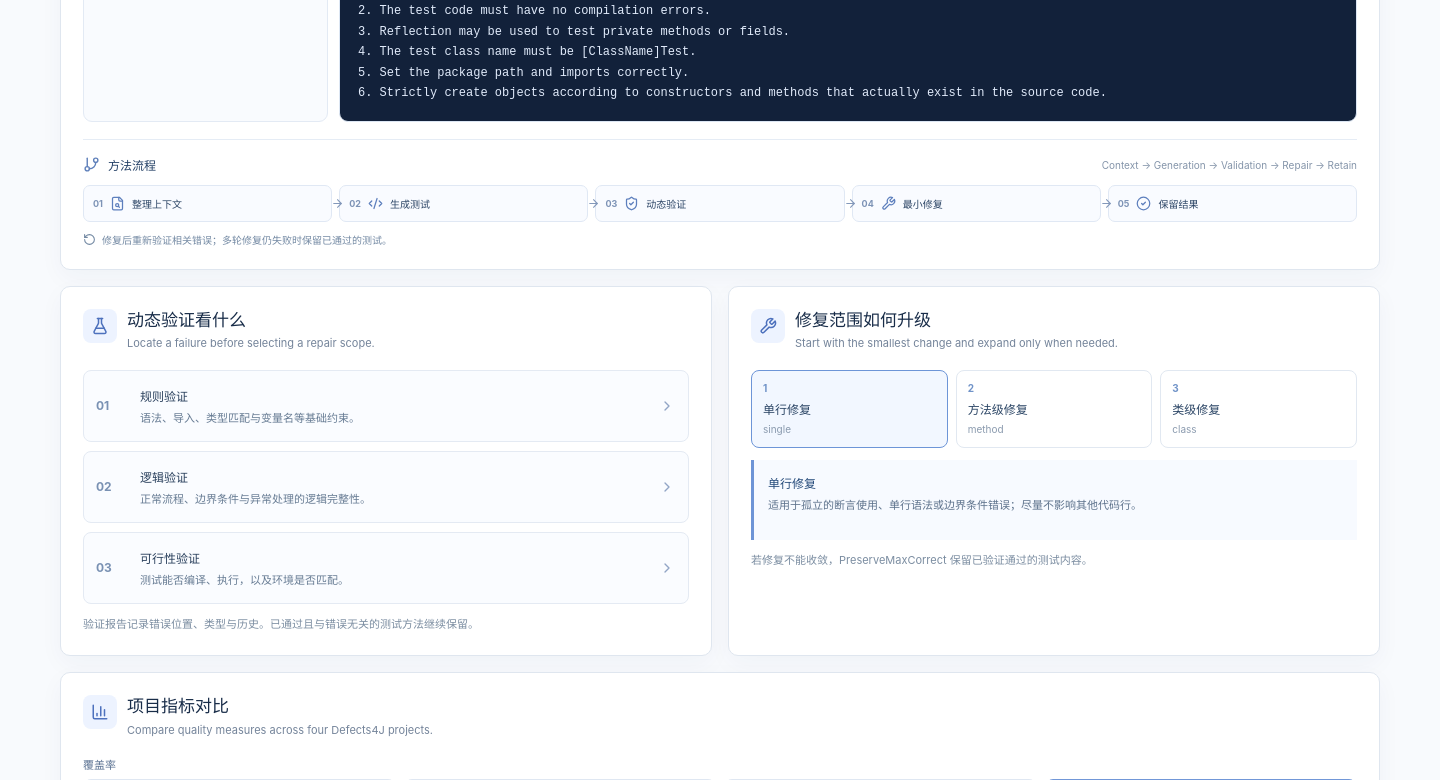
Test: ValiFixTest method showcase › opens concrete validation and repair explanations in dismissible dialogs
The image size is (1440, 780).
(page scrolled)
Click the button "01 规则验证 语法、导入、类型匹配与变量名等基础约束。".
click(164, 397)  # box [83,370,689,442]
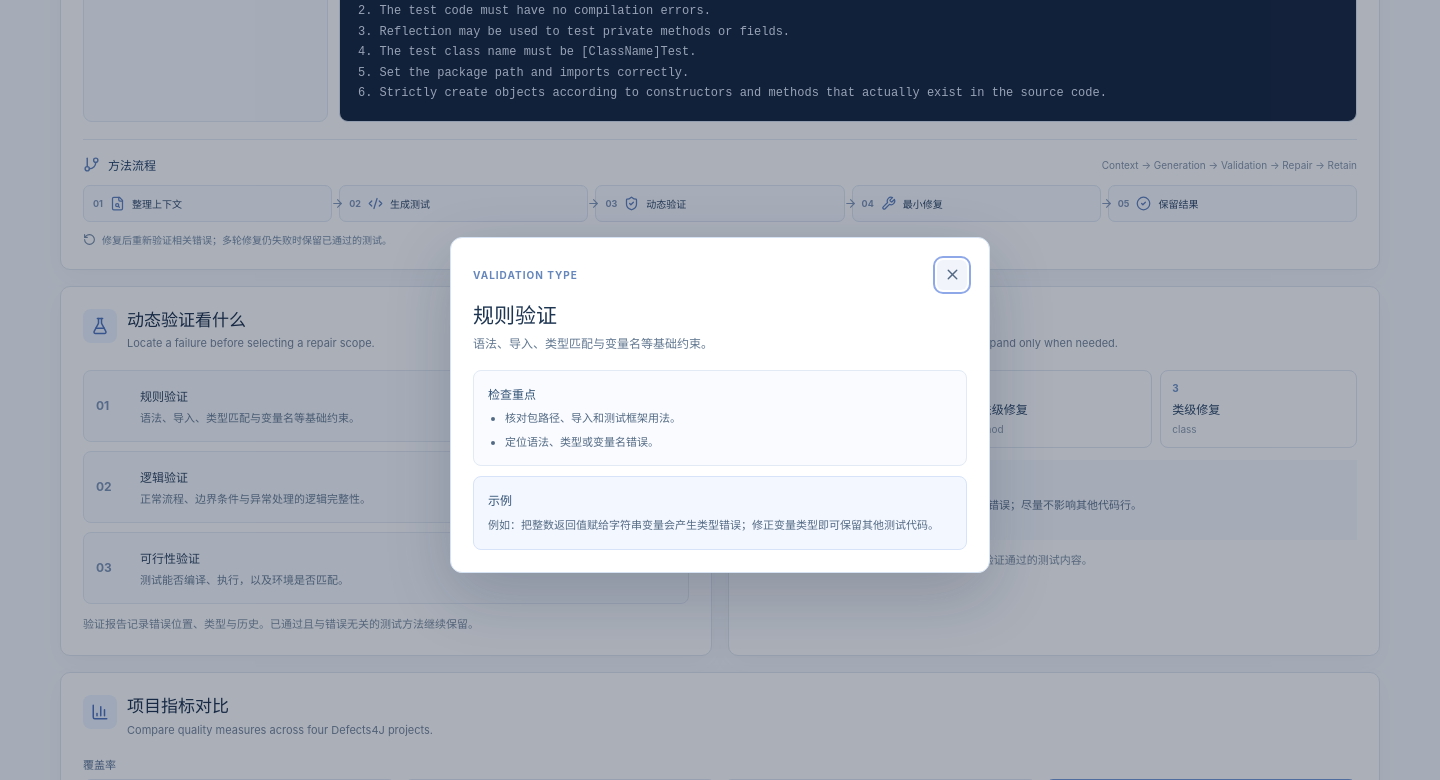
Check: the text "例如：把整数返回值赋给字符串变量会产生类型错误；修正变量类型即可保留其他测试代码。" is shown, box [488,516,952,535]
Click the button named "关闭类型说明".
click(952, 275)  # box [937,260,967,290]
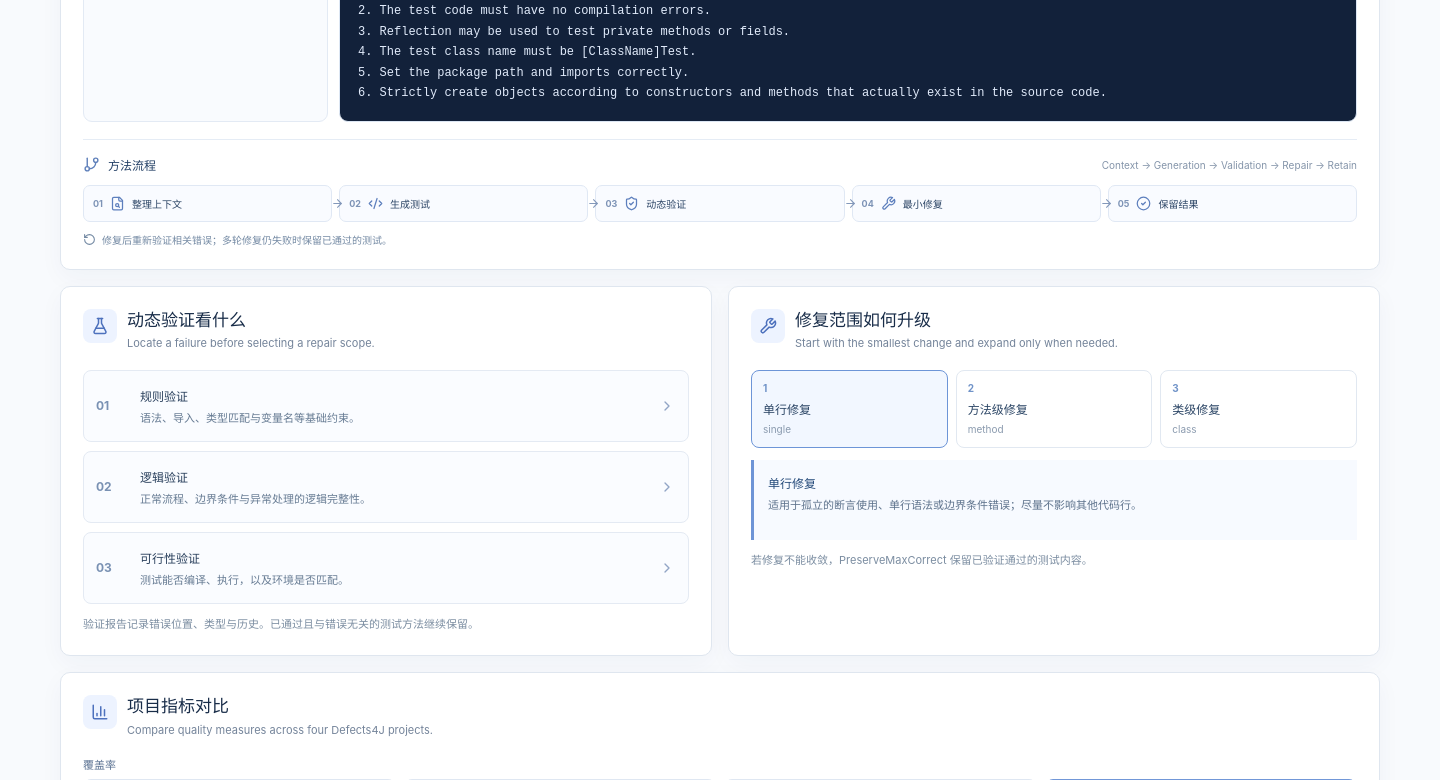
Check: the dialog is gone
Click the button "2 方法级修复 method".
click(1054, 409)  # box [956,370,1152,448]
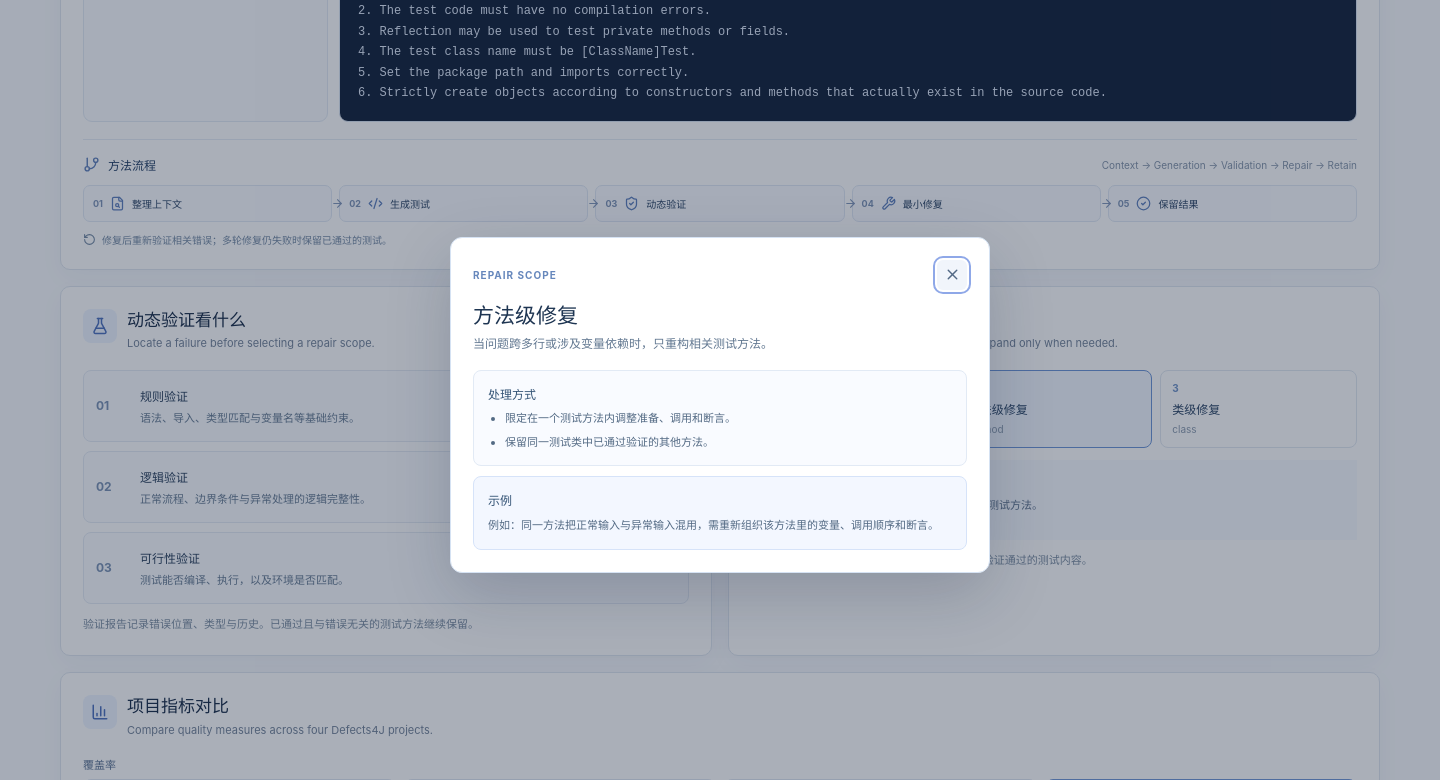
Check: the text "例如：同一方法把正常输入与异常输入混用，需重新组织该方法里的变量、调用顺序和断言。" is shown, box [488,516,952,535]
Press Escape
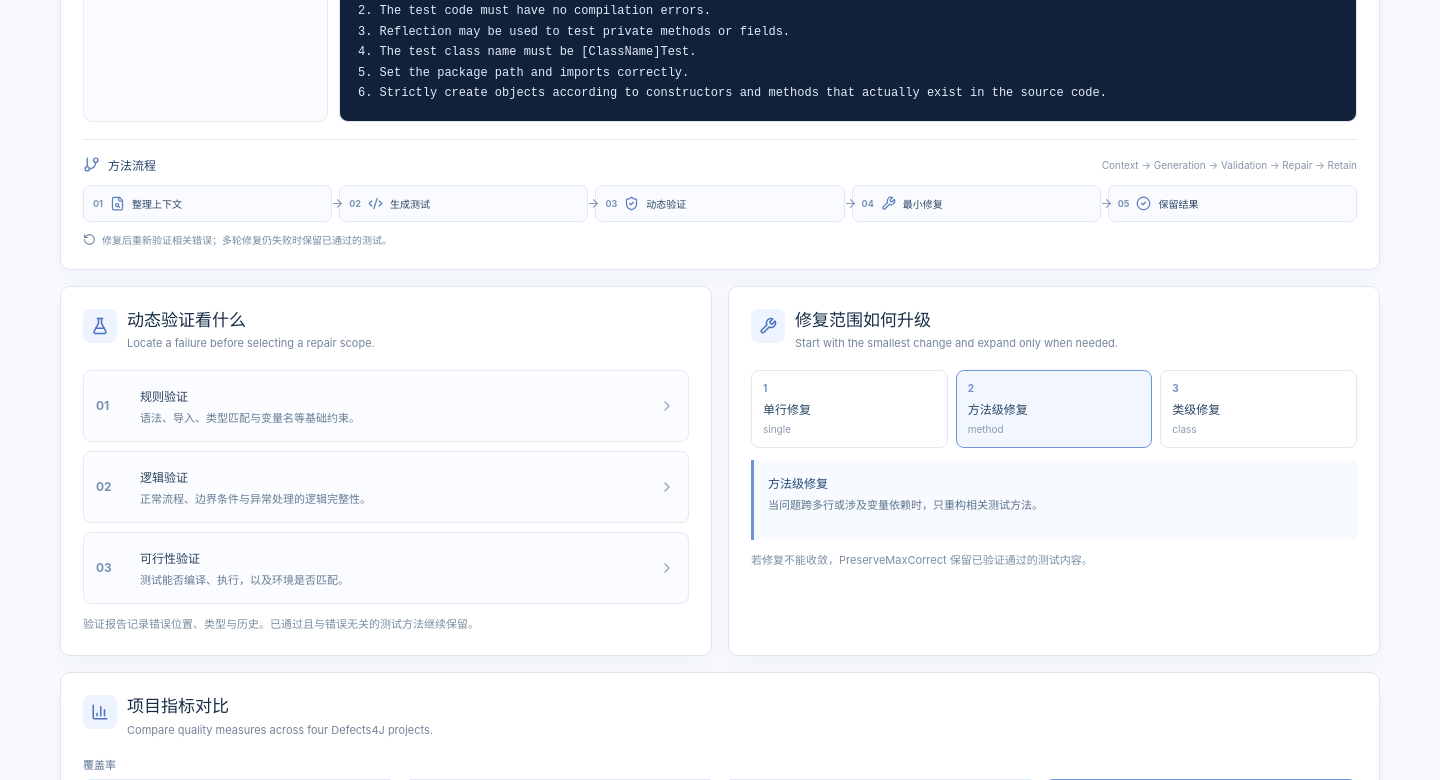
Check: the dialog is gone
